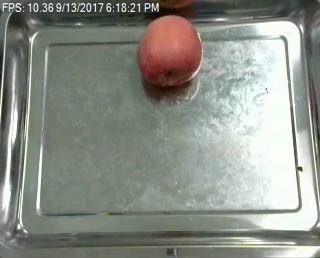Apple: (135, 7, 205, 94)
